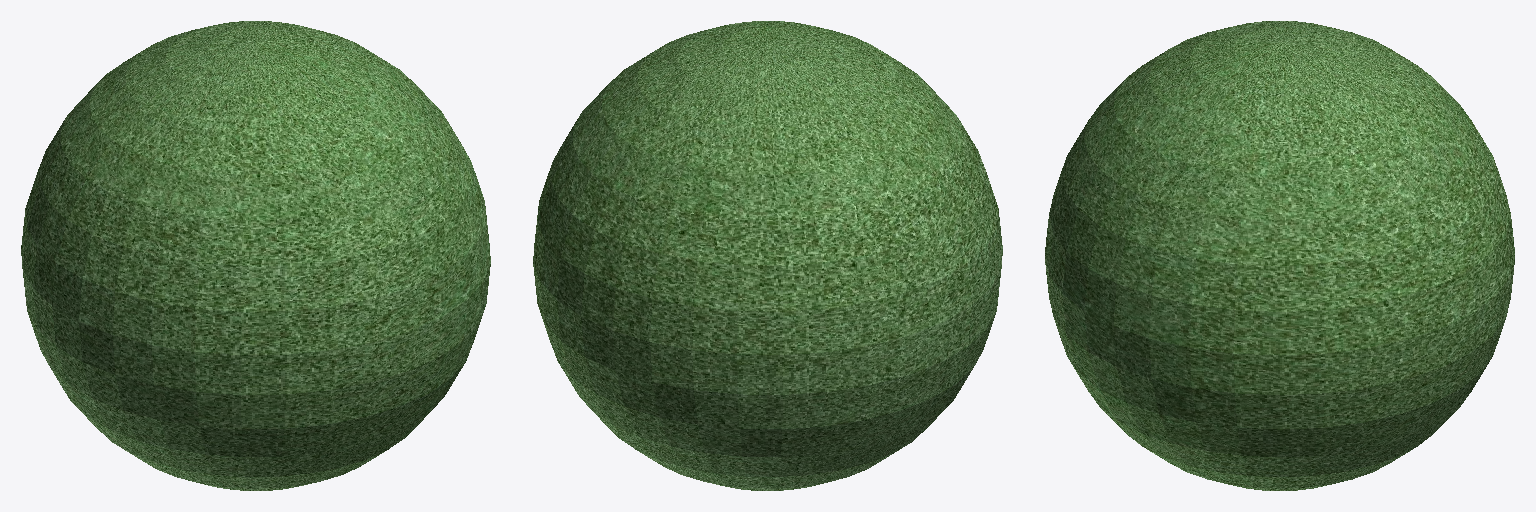
The picture shows the model from 3 angles: view 1: azimuth 30°, elevation 25°; view 2: azimuth 150°, elevation 25°; view 3: azimuth 270°, elevation 25°; orthographic projection.
Visible parts, largest first — view 1: Sphere4; view 2: Sphere4; view 3: Sphere4.
Part boxes in pixels (left/top/right/bottom): Sphere4: left=21, top=21, right=490, bottom=490; Sphere4: left=533, top=21, right=1002, bottom=490; Sphere4: left=1045, top=21, right=1514, bottom=490.
Size of the model in its own units: 2 by 2 by 2.
Materials: 1 (1 with a texture image).